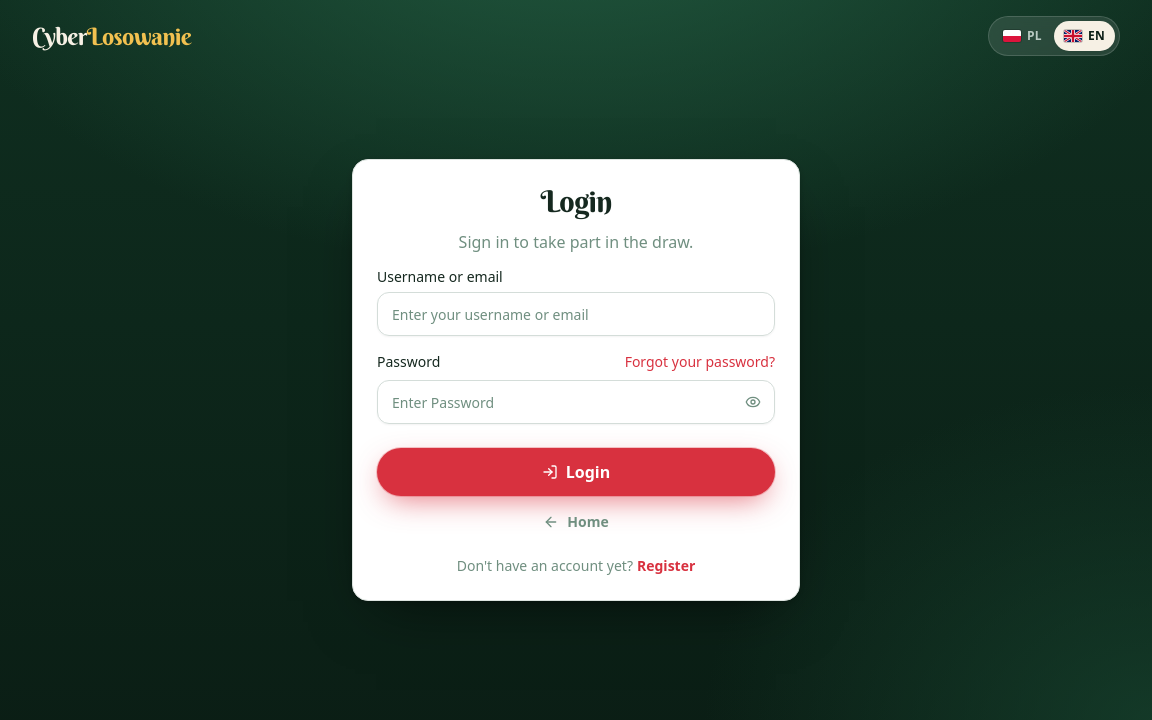
Test: Login › shows the server message for a wrong password
Type "john" into the field labelled "Username or email".
click(576, 314); type("john")  # box [377,292,775,336]
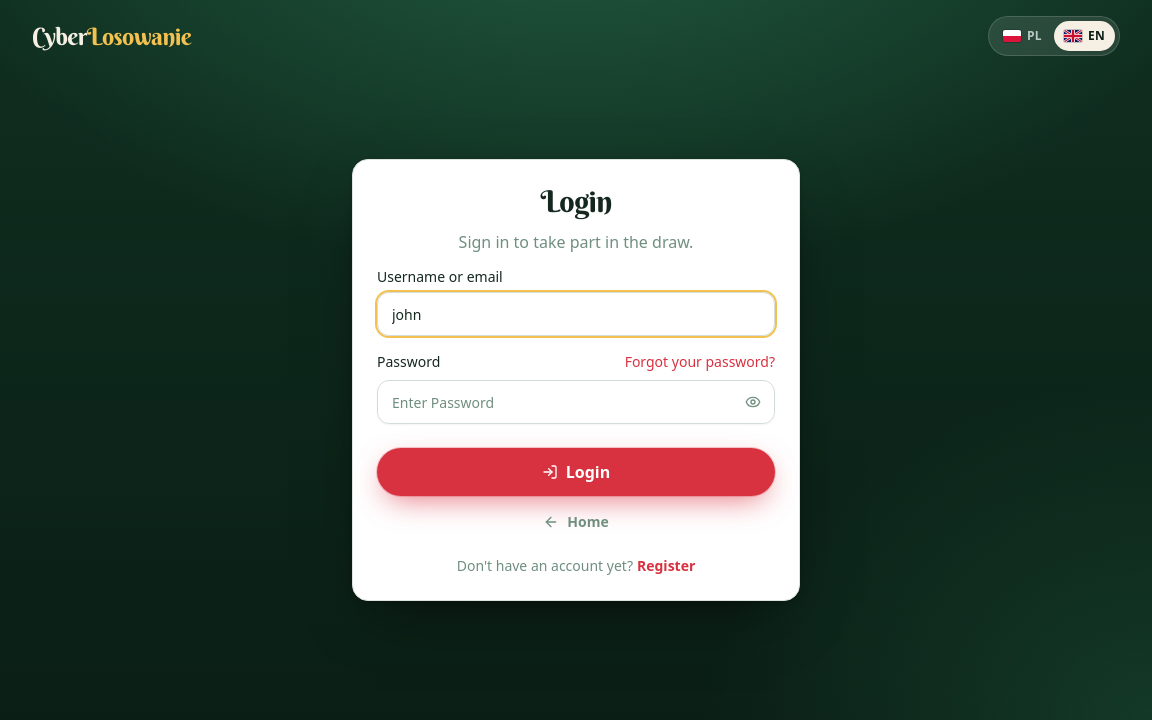
Type "wrong" into the password field labelled "Password".
click(576, 402); type("wrong")  # box [377,380,775,424]
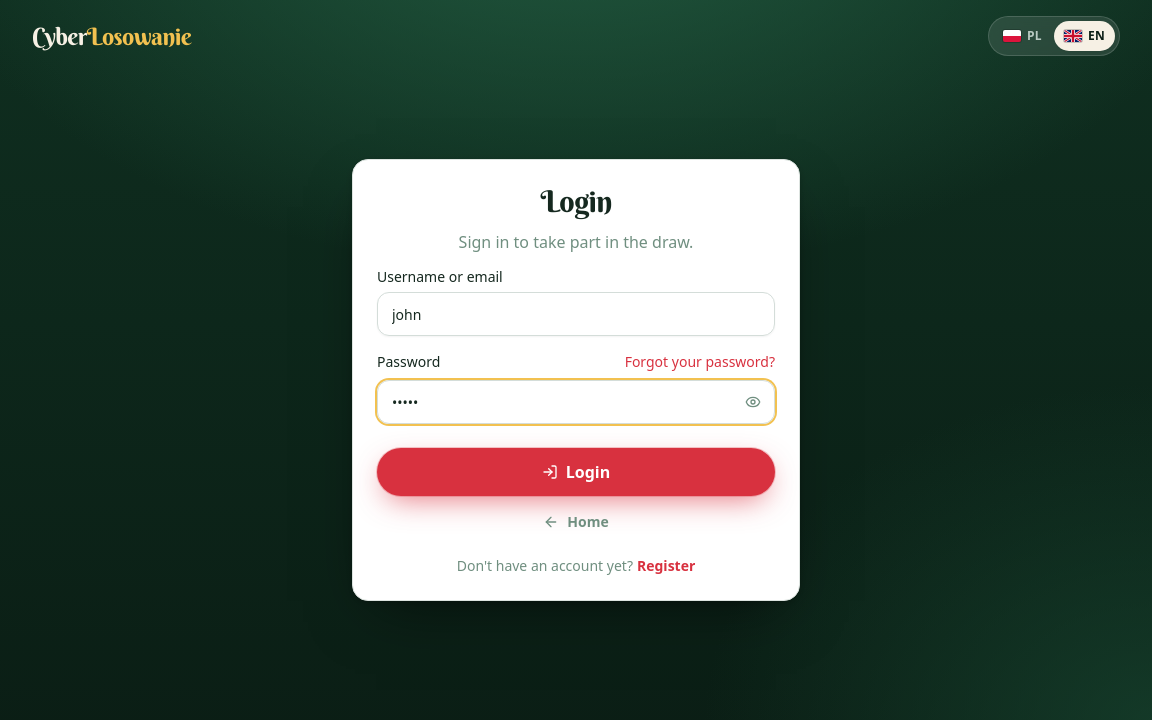
Click the button "Login".
click(576, 472)  # box [377,448,775,496]
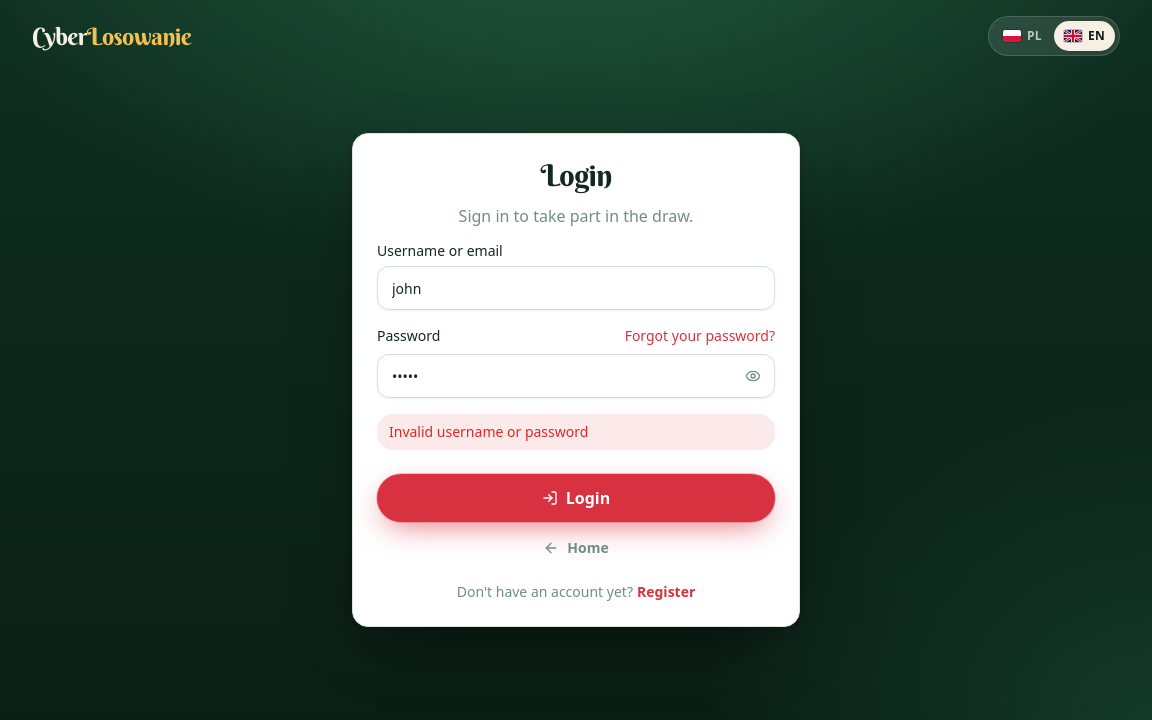
Result: the message reads "Invalid username or password" at [389,422,588,441]
